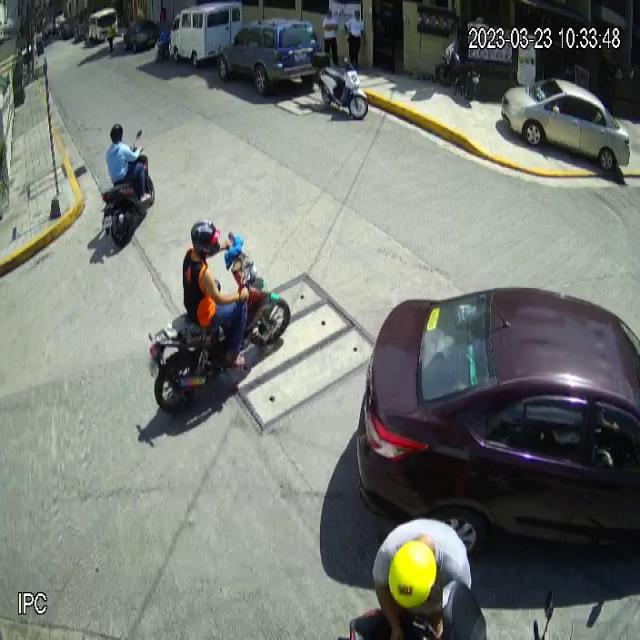Car: (356, 286, 640, 568), (501, 77, 632, 172), (216, 18, 322, 96)
Motorcycle: (148, 230, 292, 415), (100, 129, 156, 248), (311, 51, 370, 120)
Van: (170, 1, 244, 70)
